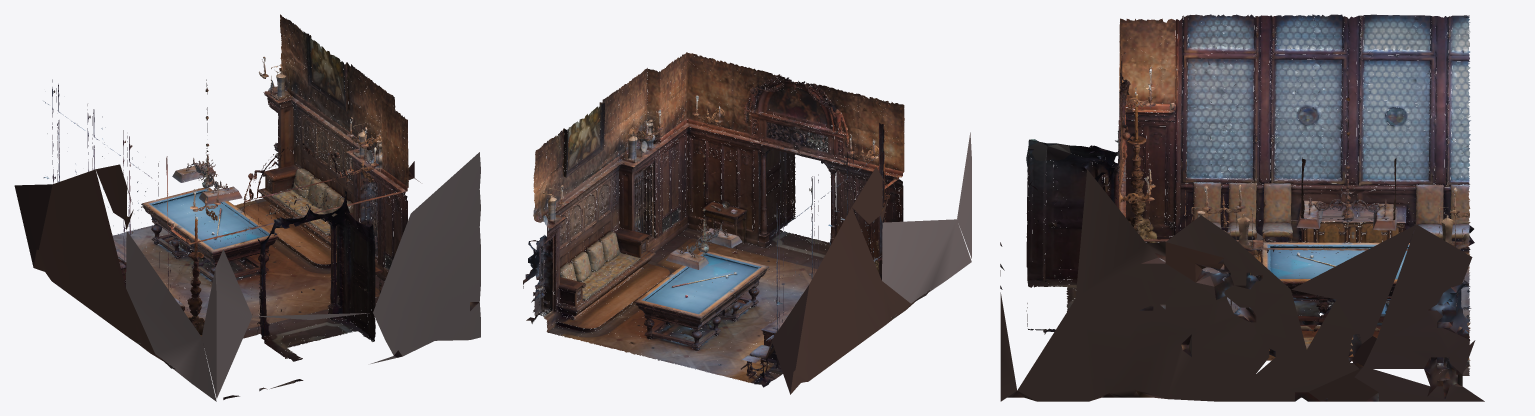
The model's file is the_billiards_room.glb.
3 renders of one model, left to right at view 1: azimuth 30°, elevation 25°; view 2: azimuth 150°, elevation 25°; view 3: azimuth 270°, elevation 25°, orthographic. The views are drawn at different scales.
Parts seen in each view (by area): view 1: Object_2; view 2: Object_2; view 3: Object_2.
Part boxes in pixels (bbox=[...]): Object_2: bbox=[14, 14, 480, 401]; Object_2: bbox=[523, 52, 971, 394]; Object_2: bbox=[1000, 14, 1484, 401].
Size of the model in its own units: 5.13 by 3.5 by 7.01.
Materials: 1 (1 with a texture image).
